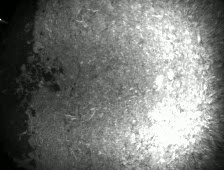corn: (153, 73, 167, 88)
